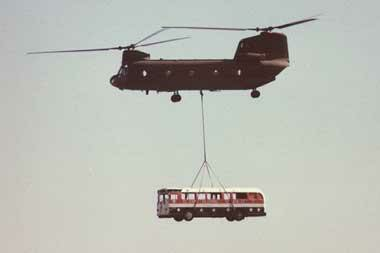chinook: (68, 18, 321, 106)
